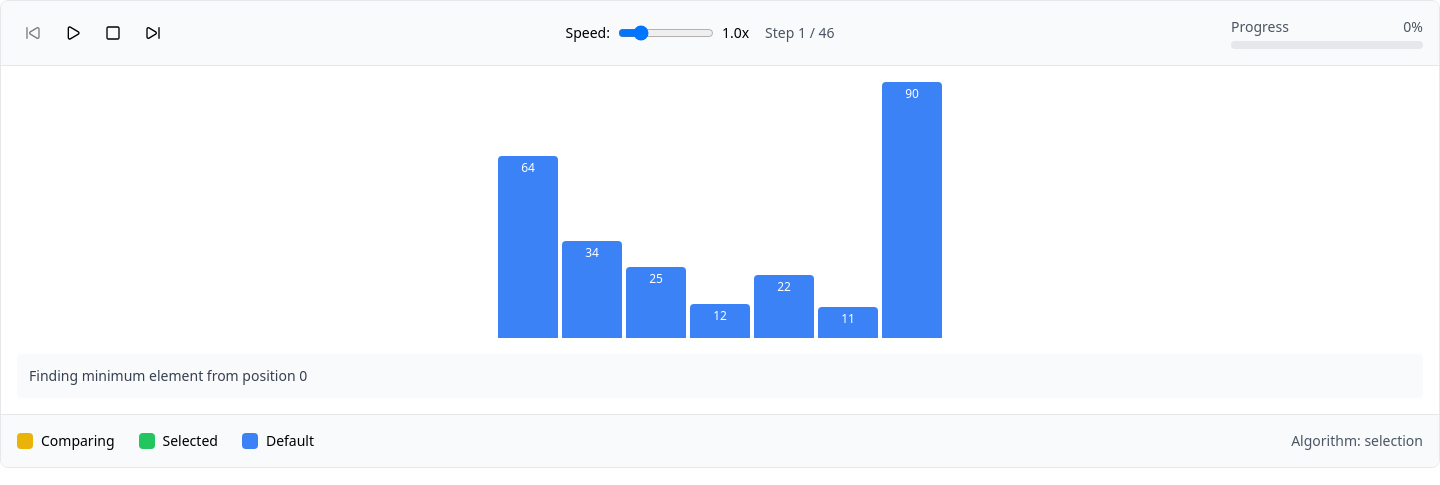
SortingVisualization › handles speed control
Set the slider to "2.0" at x=657, y=33, box [618,25,714,41]
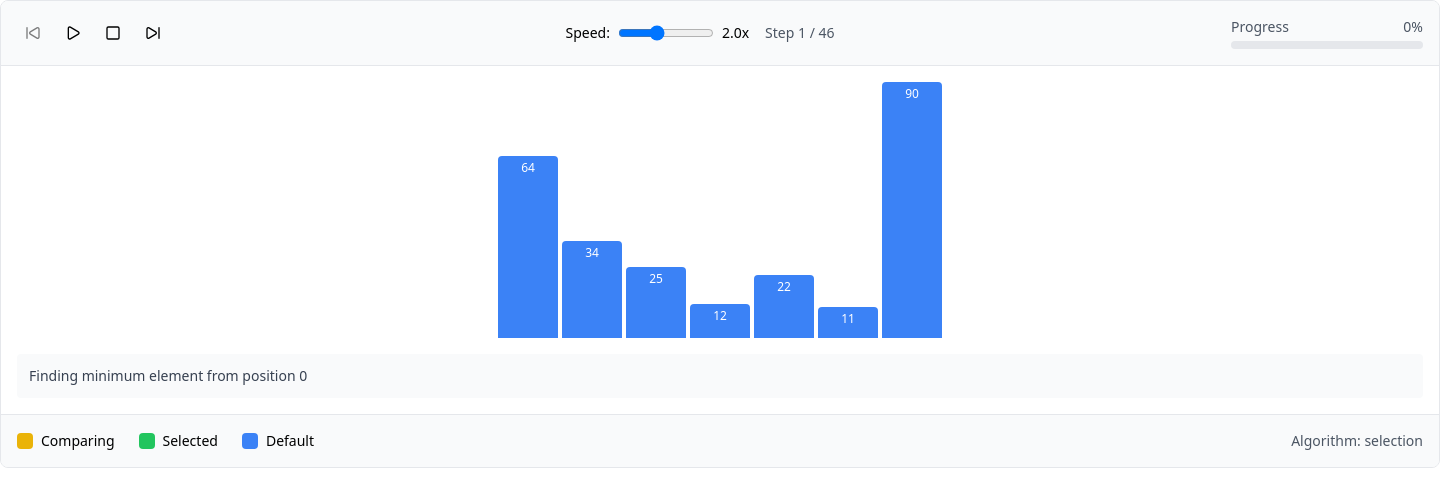
Expected: the text "2.0x" is shown, [722,23,749,43]
